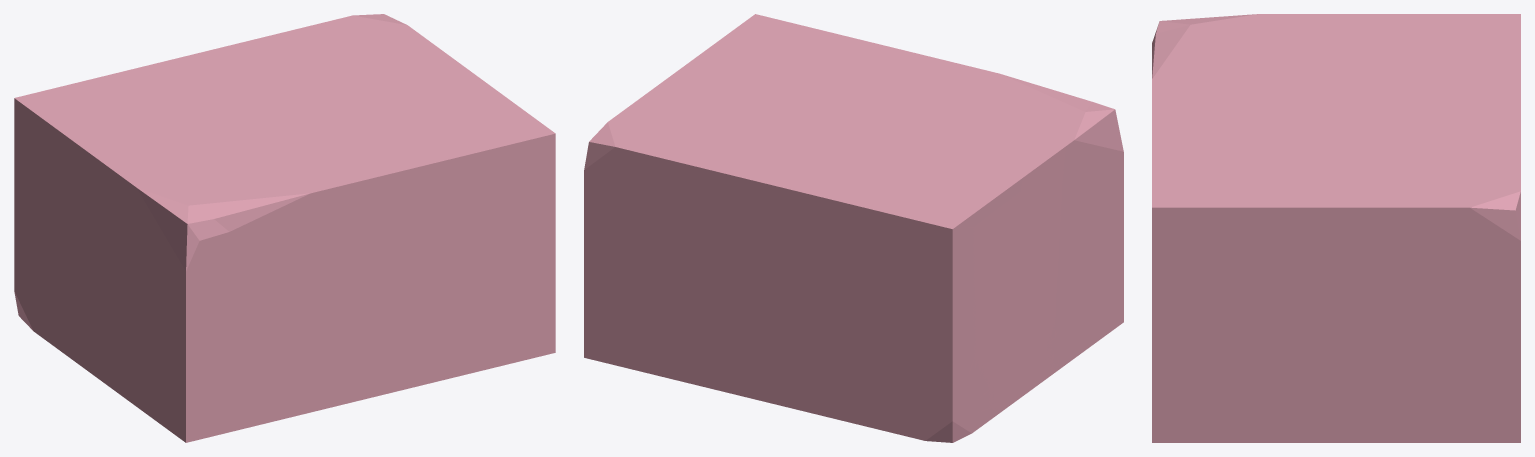
Rendered from CardboardBox.fbx.
The picture shows the model from 3 angles, left to right: view 1: azimuth 30°, elevation 25°; view 2: azimuth 150°, elevation 25°; view 3: azimuth 270°, elevation 25°; orthographic projection. The views are drawn at different scales.
Visible parts, largest first — view 1: CardboardBox; view 2: CardboardBox; view 3: CardboardBox.
Boxes of the visible parts, x1,y1,x2,y2 form: CardboardBox: [14, 14, 555, 442]; CardboardBox: [584, 14, 1123, 442]; CardboardBox: [1152, 14, 1520, 442].
Size of the model in its own units: 62.13 by 35.2 by 50.
